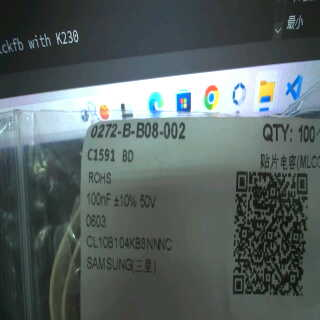100nF: (83, 187, 112, 209)
